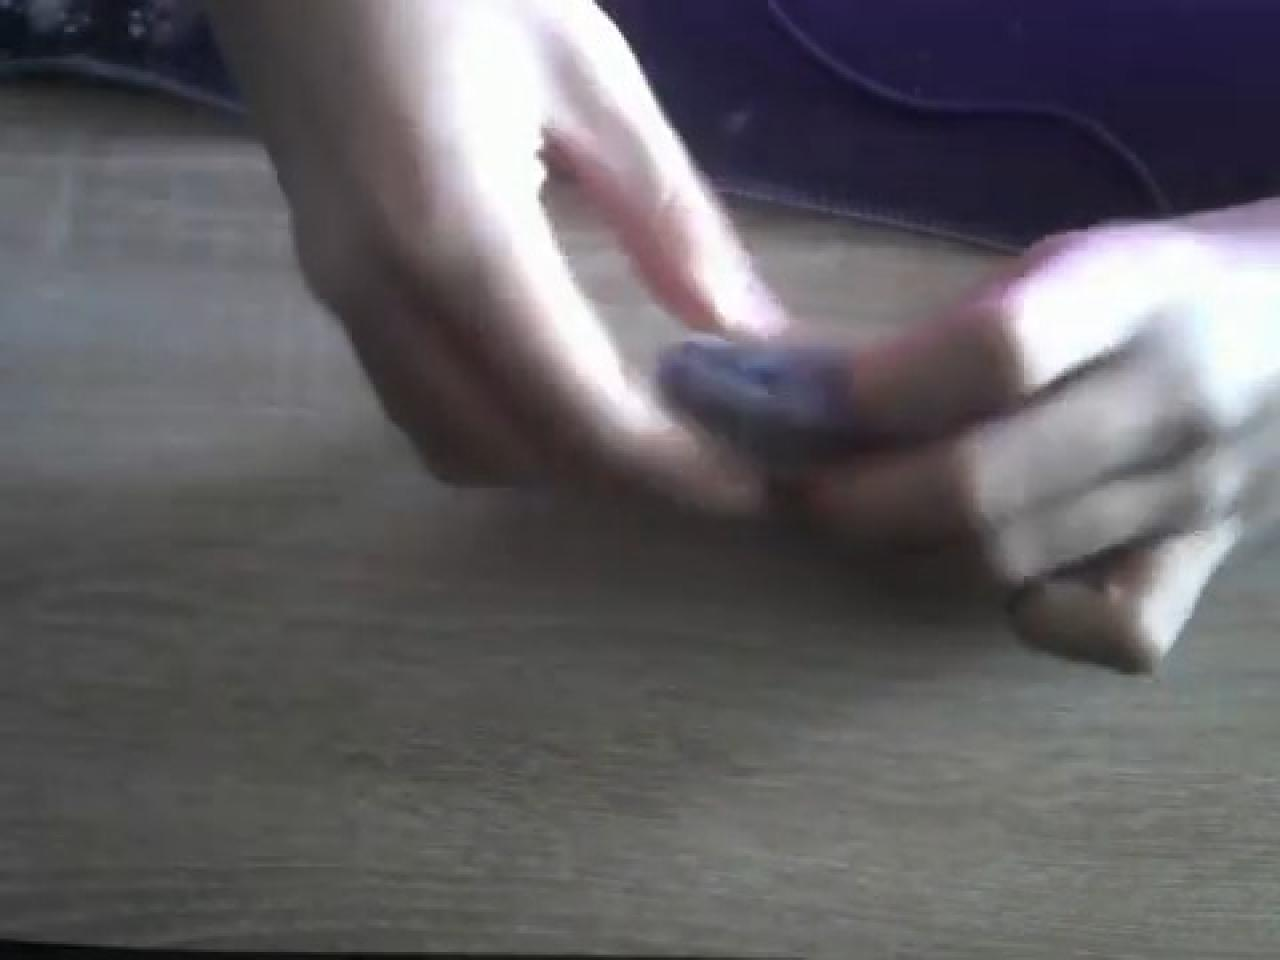20leva: (651, 170, 1277, 678)
